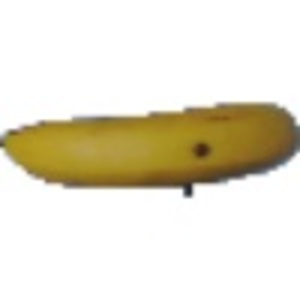banana: (2, 92, 298, 189)
